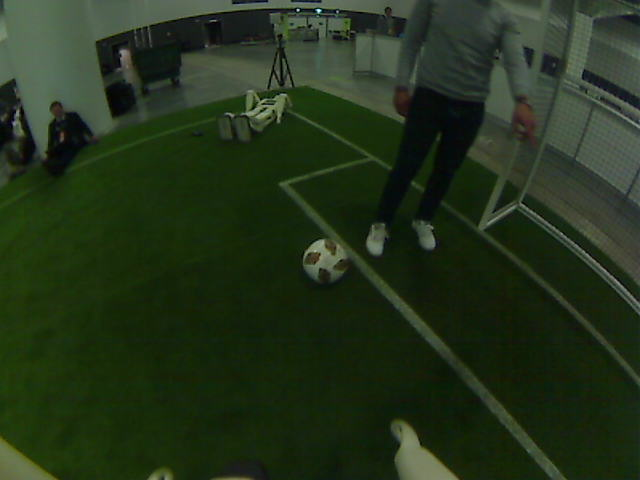ball: (306, 240, 346, 280)
goalpost: (463, 170, 503, 230)
robot: (227, 100, 252, 141)
